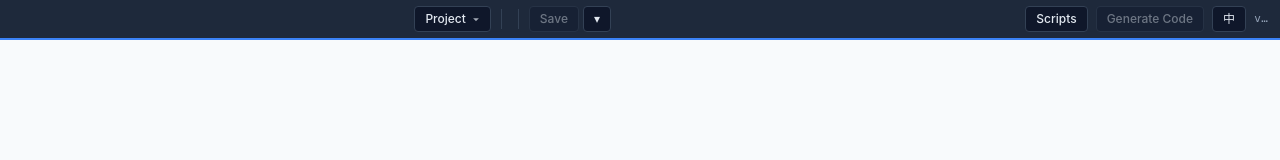
AppHeader save overflow menu (P2, spec §4.2) › overflow menu contains Project Save and Save All
The image size is (1280, 160).
Step 1. Click the button with test id "btn-save-overflow" → (597, 19), box [583,6,611,32]
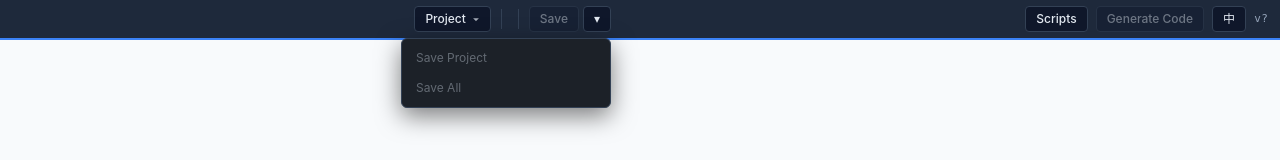
Result: the menu item with test id "btn-project-save" is shown at [406,43,606,73]
Result: the menu item with test id "btn-save-all" is shown at [406,73,606,103]
